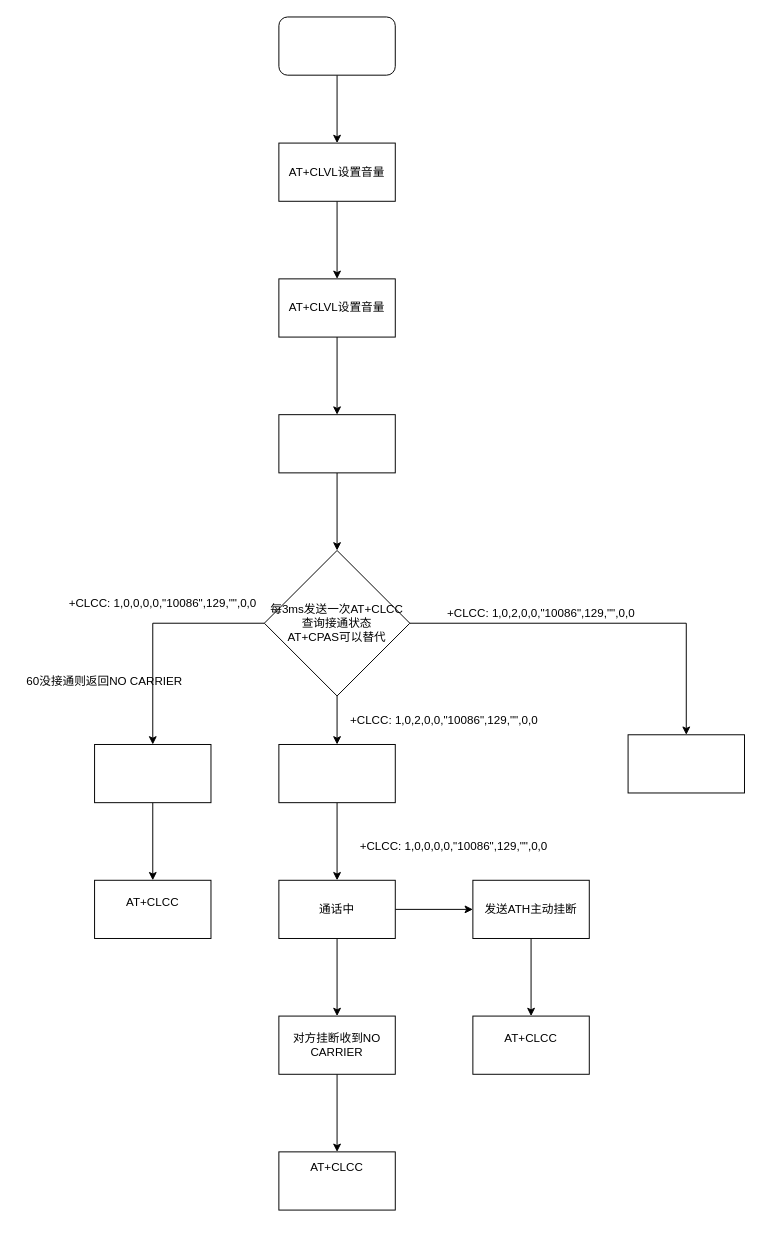
Image size: 761x1233. Some labels were removed from this diagram. The shapes that lost their labels are listed below. From the top down, each one's centre as x and y in pixels, then its label:
[336,45]: 模块初始化
[336,443]: 拨打电话ATD10086;
[152,773]: 无法接通，并回到idel状态
[336,773]: 拨号成功响铃中
[685,763]: 未接通
